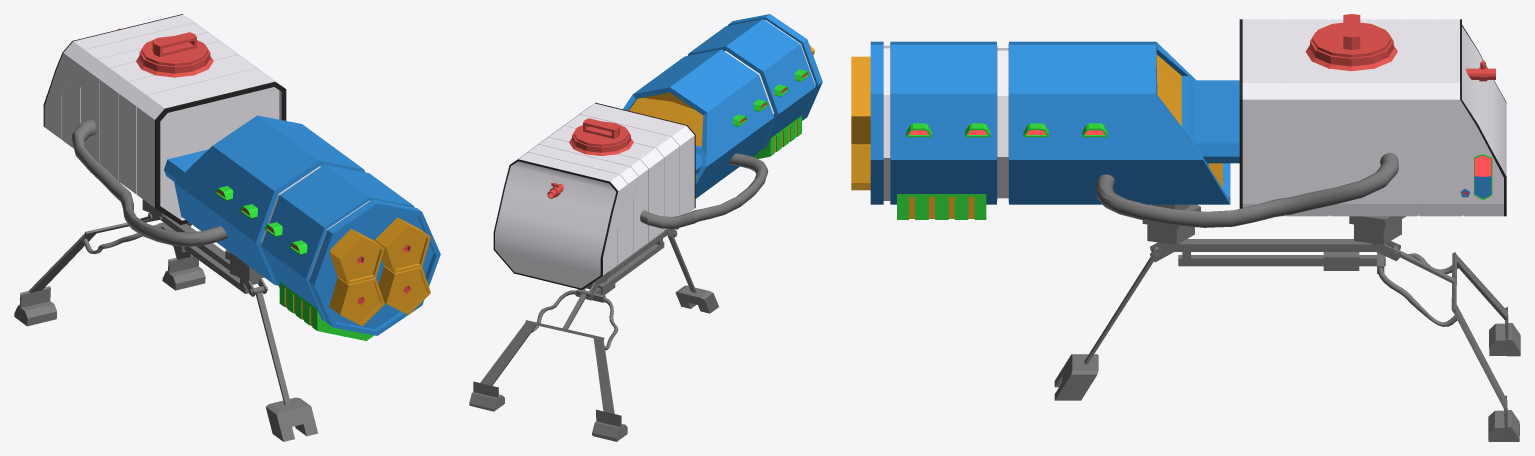
Rendered from Bubble Gun.fbx.
The picture shows the model from 3 angles, left to right: view 1: azimuth 30°, elevation 25°; view 2: azimuth 150°, elevation 25°; view 3: azimuth 270°, elevation 25°; orthographic projection. The views are drawn at different scales.
Visible parts, largest first — view 1: Cylinder.004; view 2: Cylinder.004; view 3: Cylinder.004.
Part boxes in pixels (left/top/right/bottom): Cylinder.004: left=14, top=14, right=440, bottom=441; Cylinder.004: left=469, top=14, right=822, bottom=441; Cylinder.004: left=851, top=14, right=1520, bottom=441.
Size of the model in its own units: 938 by 1251 by 2078.
